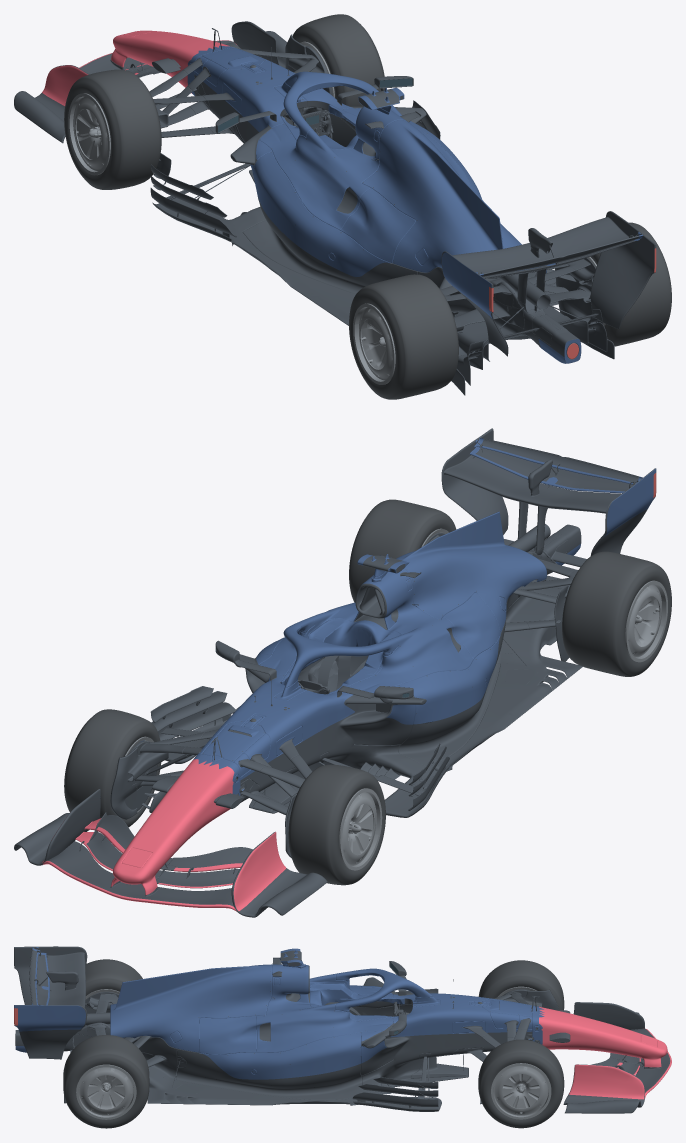
Rendered from redbull-high.glb.
3 renders of one model, top to bottom at view 1: azimuth 30°, elevation 25°; view 2: azimuth 150°, elevation 25°; view 3: azimuth 270°, elevation 25°, orthographic. The views are drawn at different scales.
Parts seen in each view (by area): view 1: body, wheel2, wheel0, rearFlaps, wheel1, frontFlaps, wheel3, frontWing, rearWing; view 2: body, frontFlaps, wheel2, rearFlaps, frontWing, wheel0, wheel1, wheel3, rearWing; view 3: body, wheel3, wheel1, frontFlaps, rearFlaps, frontWing, wheel0, wheel2, rearWing.
Part boxes in pixels (x1,y1,x2,y2): body: (61,28,648,395); wheel2: (349,274,458,399); wheel0: (64,69,161,189); rearFlaps: (441,211,656,309); wheel1: (292,14,384,106); frontFlaps: (46,21,279,98); wheel3: (587,222,671,346); frontWing: (14,31,286,142); rearWing: (443,246,655,318); body: (110,486,647,882); frontFlaps: (46,778,283,901); wheel2: (562,551,671,676); rearFlaps: (441,428,656,530); frontWing: (14,813,326,917); wheel0: (288,764,385,885); wheel1: (64,709,161,827); wheel3: (349,499,456,602); rearWing: (444,479,655,537); body: (15,948,570,1113); wheel3: (63,1035,149,1128); wheel1: (478,1039,564,1128); frontFlaps: (563,1002,667,1092); rearFlaps: (14,946,87,1024); frontWing: (565,1012,671,1113); wheel0: (478,960,564,1010); wheel2: (85,959,142,999); rearWing: (14,966,85,1031).
Bounding box in the file's own units: 1.9 × 1.19 × 5.39.
